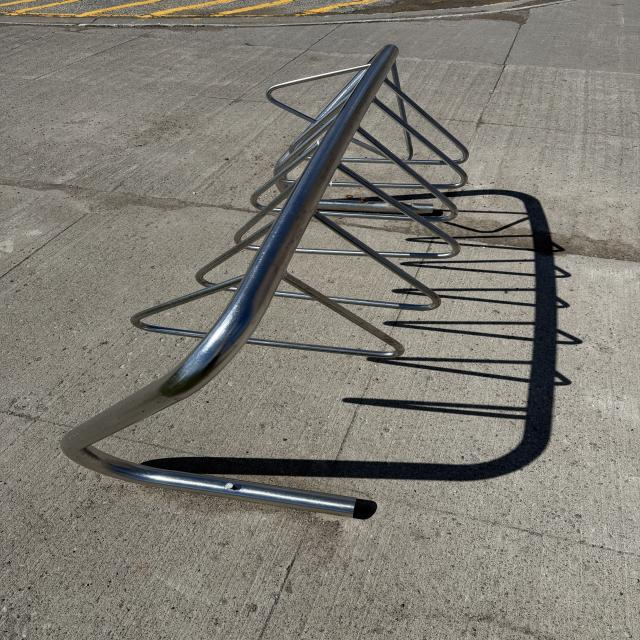Bicycle Rack: (60, 46, 479, 517)
